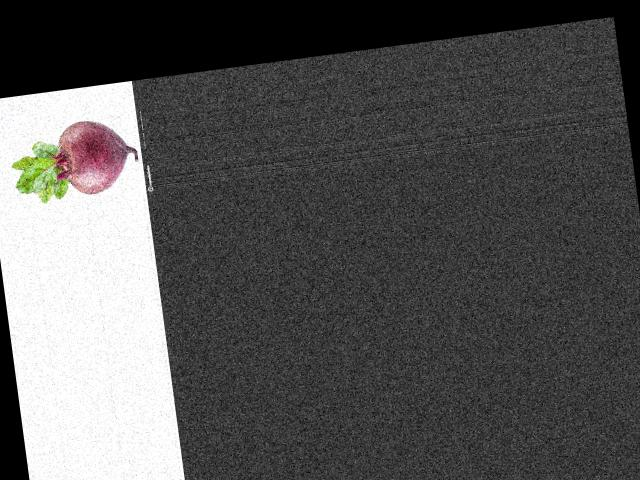beet: (6, 114, 141, 206)
